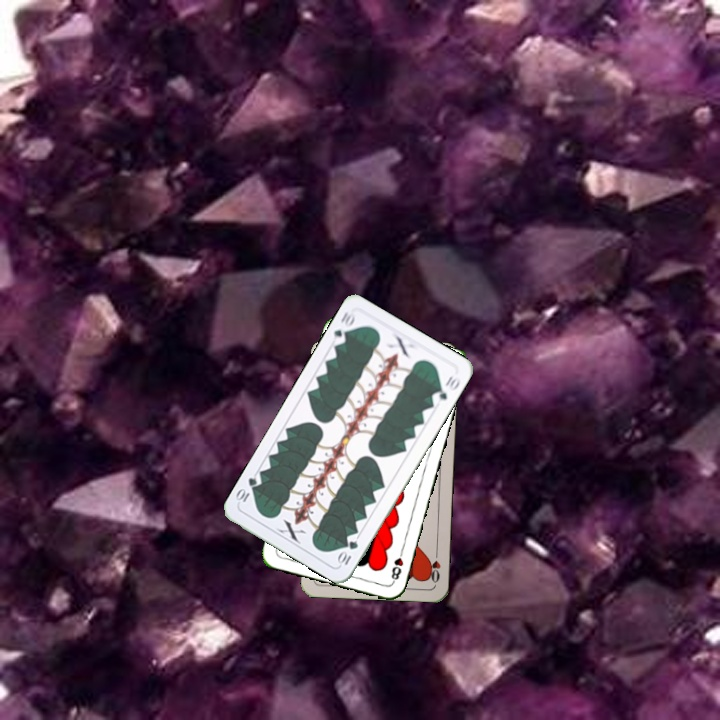G10: (328, 307, 359, 348), (334, 536, 361, 569)
H8: (387, 545, 406, 585)
HO: (425, 546, 443, 585)
